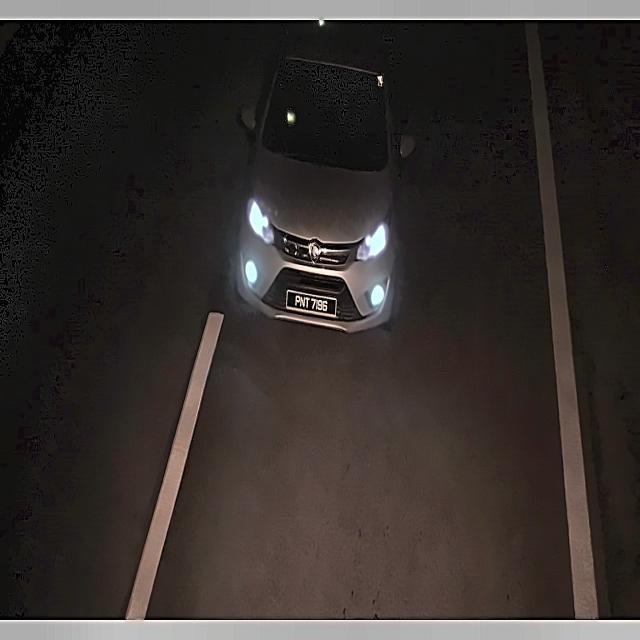car: (281, 281, 345, 322)
